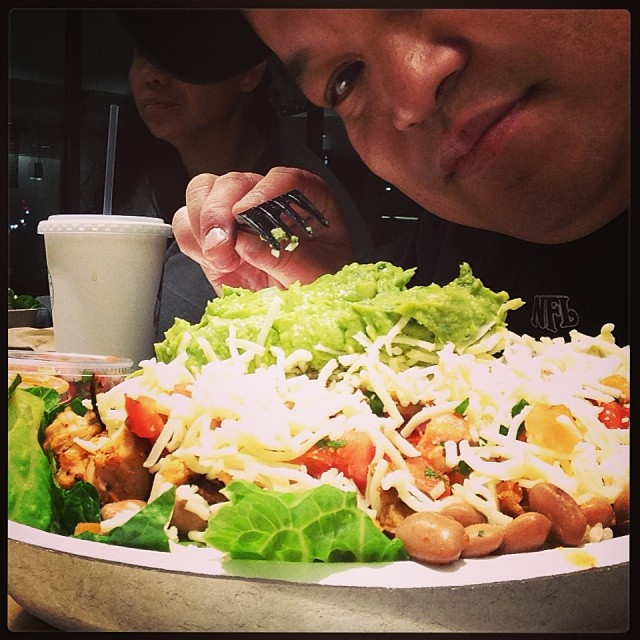chopped lettuce: (181, 269, 500, 350)
